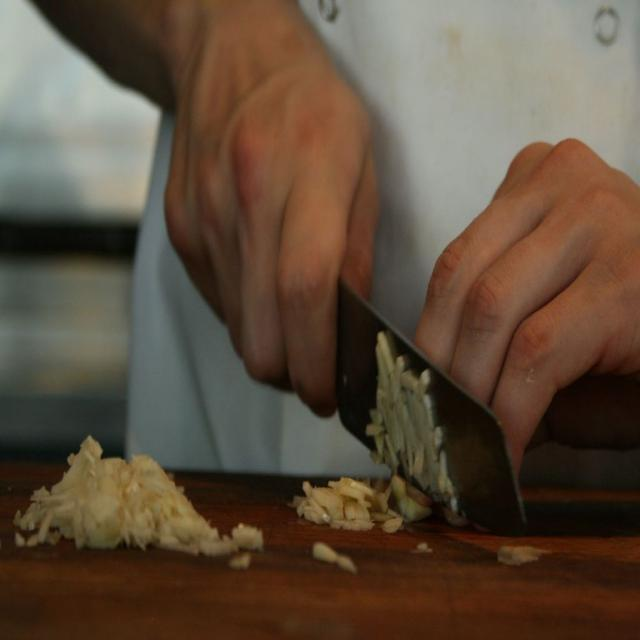Knife: (338, 284, 526, 533)
